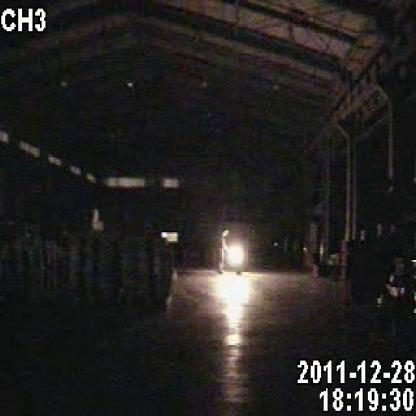fire: (204, 217, 277, 348)
